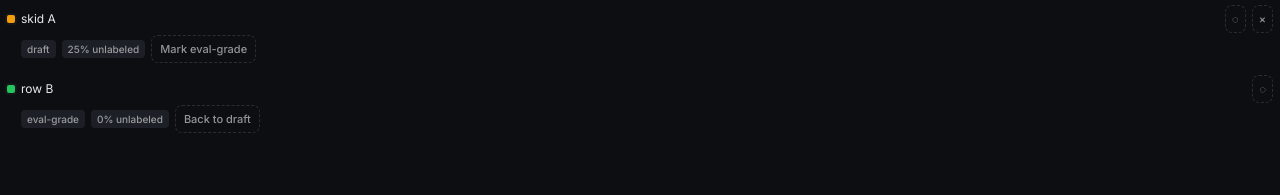
it: RegionPanel › surfaces a failed delete inline on the row
What coordinates should you click on to do the following:
click the button titled "Delete region"
I would click on:
 (1262, 19)
Its box is x1=1252 y1=5 x2=1273 y2=33.
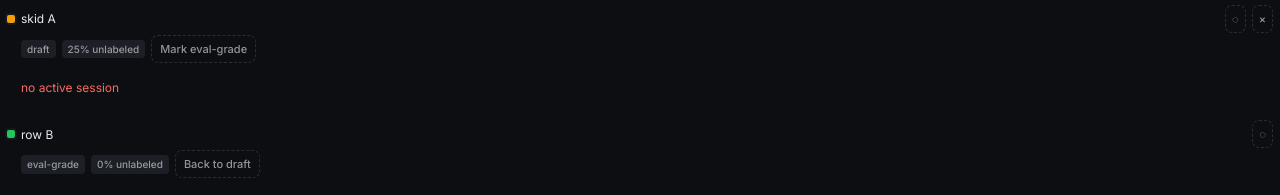
Result: the text "no active session" is shown at x1=21 y1=80 x2=119 y2=95
